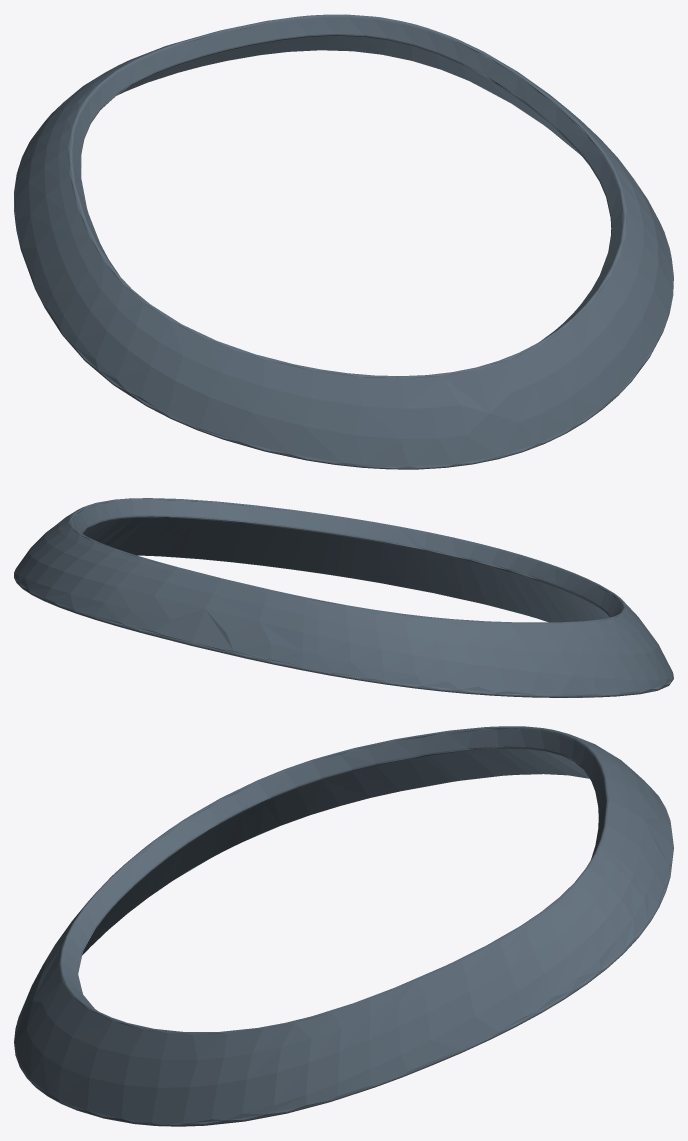
3 renders of one model, top to bottom at view 1: azimuth 30°, elevation 25°; view 2: azimuth 150°, elevation 25°; view 3: azimuth 270°, elevation 25°, orthographic. The views are drawn at different scales.
Visible parts, largest first — view 1: A0509_1_2; view 2: A0509_1_2; view 3: A0509_1_2.
Boxes of the visible parts, box(x1,y1,x2,y2) form: A0509_1_2: box(14, 14, 673, 469); A0509_1_2: box(14, 498, 673, 697); A0509_1_2: box(14, 726, 673, 1126).
Bounding box in the file's own units: 99 × 90.94 × 37.05.
